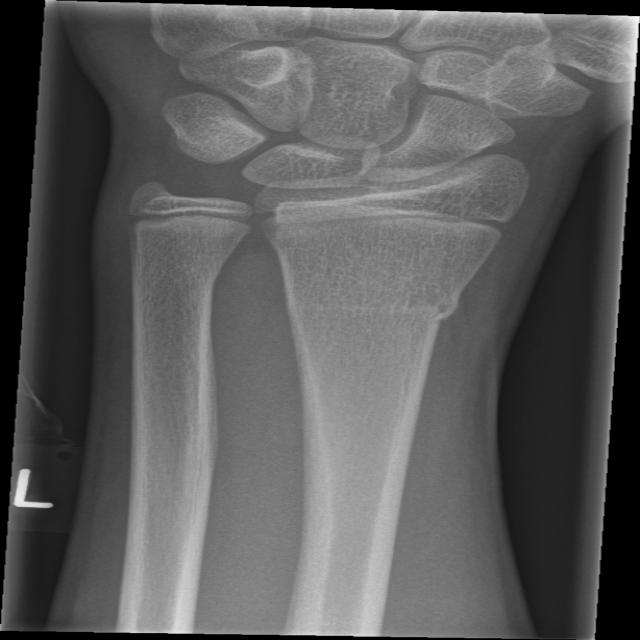radius fracture: (327, 250, 511, 418)
